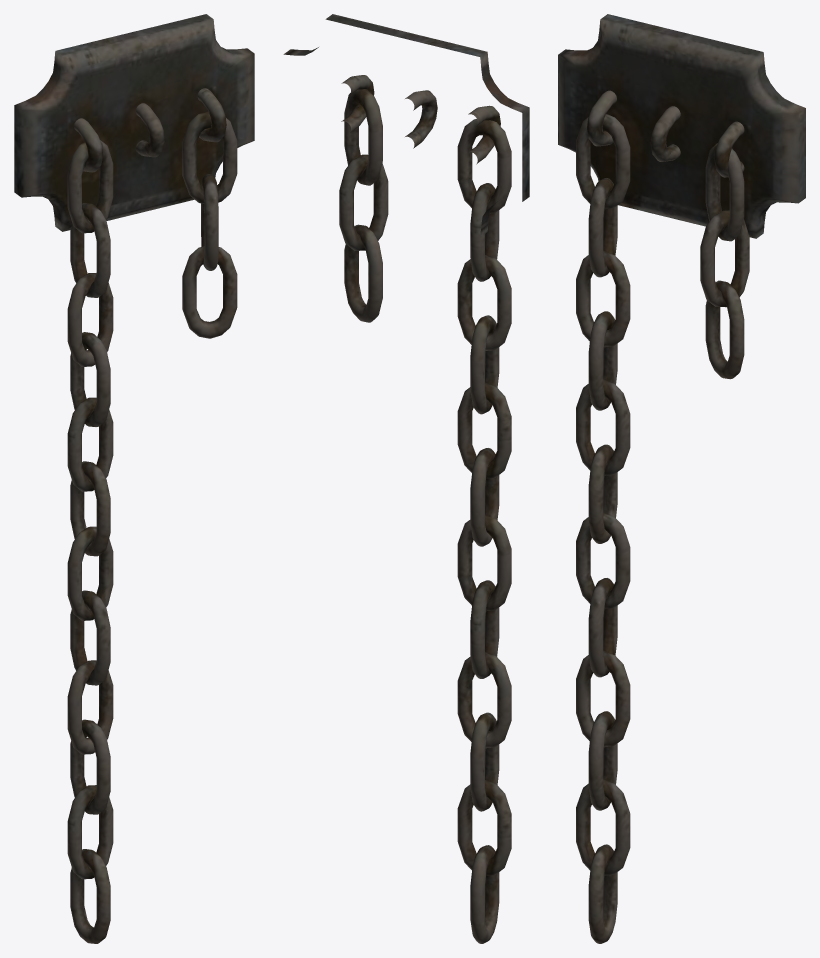
Rendered from SM_Decor_Chains_B.glb.
3 renders of one model, left to right at view 1: azimuth 30°, elevation 25°; view 2: azimuth 150°, elevation 25°; view 3: azimuth 330°, elevation 25°, orthographic. The views are drawn at different scales.
Parts seen in each view (by area): view 1: SM_Decor_Chains_B; view 2: SM_Decor_Chains_B; view 3: SM_Decor_Chains_B.
Part boxes in pixels (x1,y1,x2,y2): SM_Decor_Chains_B: (14, 14, 254, 943); SM_Decor_Chains_B: (283, 14, 529, 943); SM_Decor_Chains_B: (558, 14, 805, 943).
Bounding box in the file's own units: 0.3778 × 1.36 × 0.0937.
Materials: 1 (1 with a texture image).
